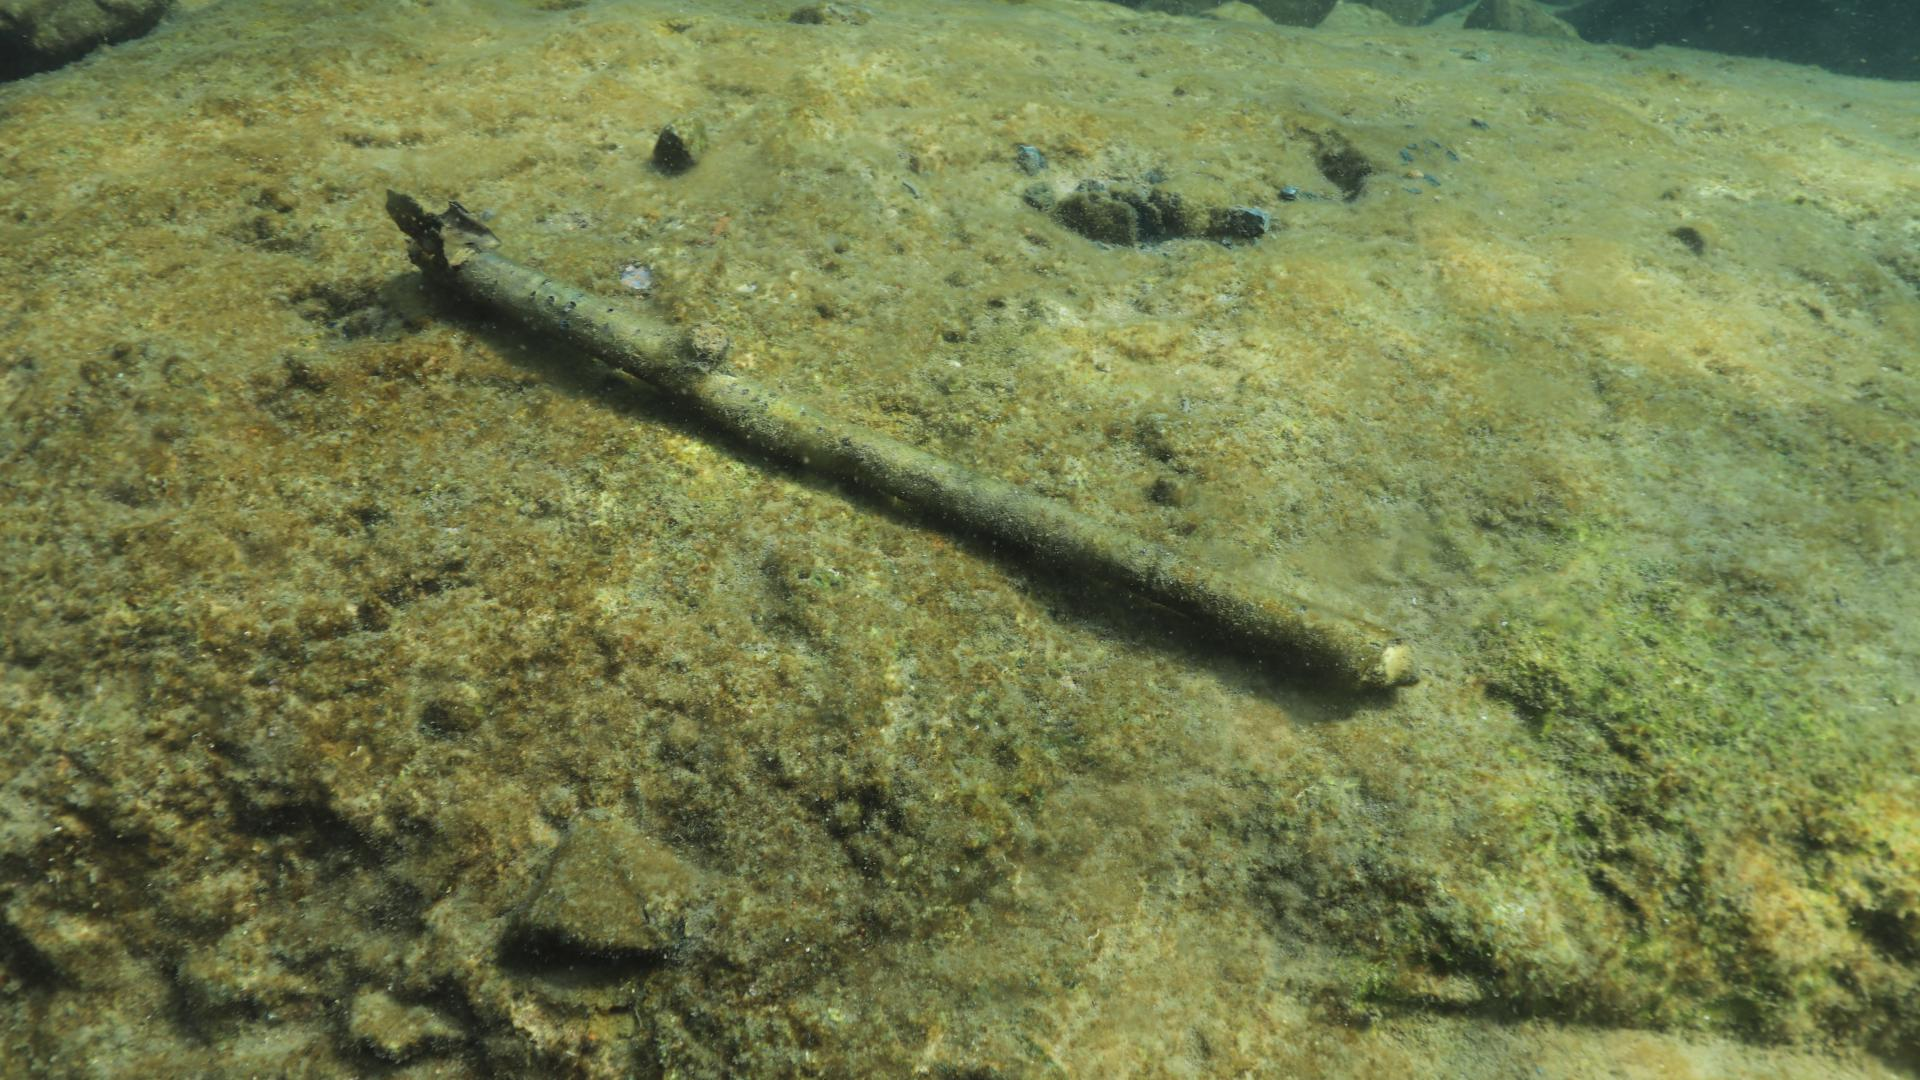wood: (381, 185, 1420, 691)
